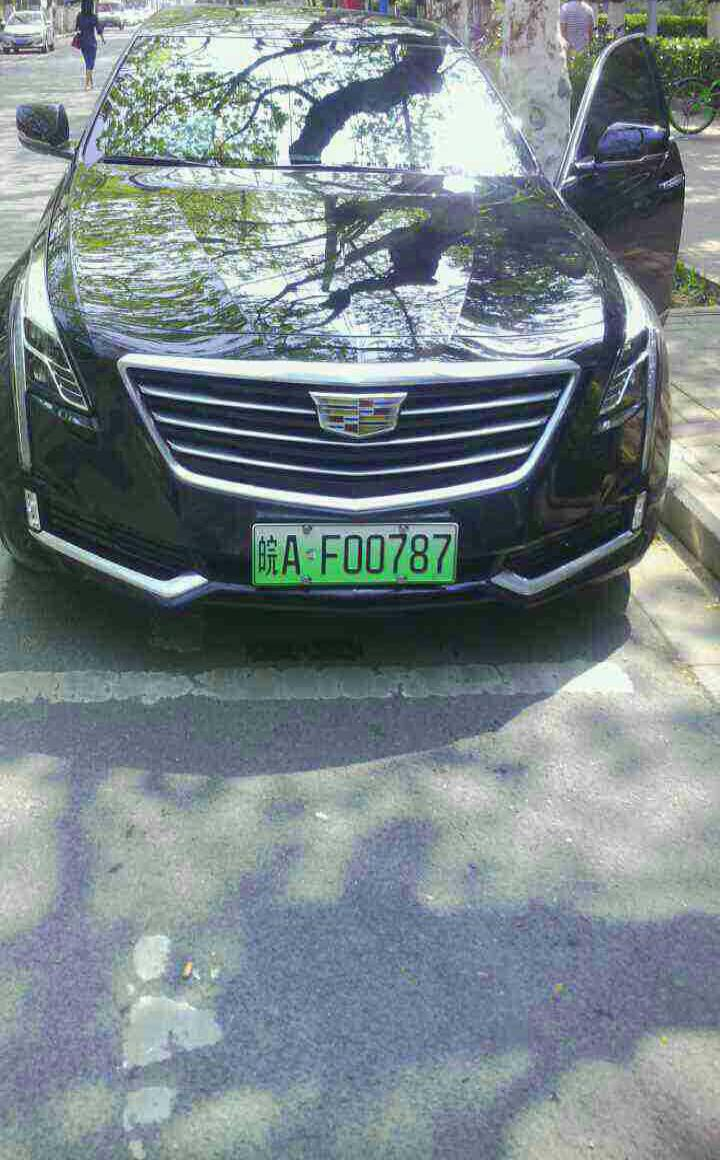car_id: (248, 524, 455, 583)
